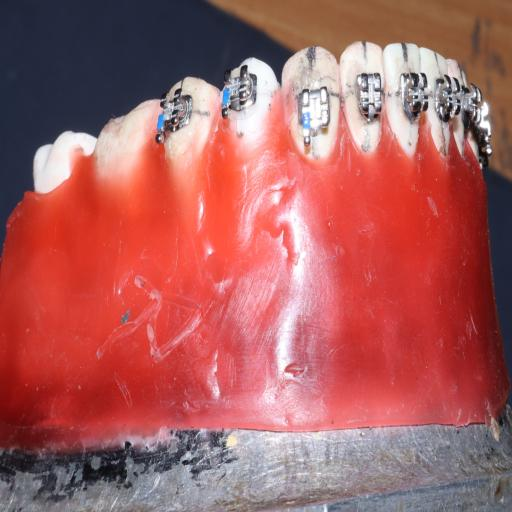correct_brace: (351, 70, 383, 117)
incorrect_brace: (340, 35, 384, 164), (291, 82, 335, 147)
